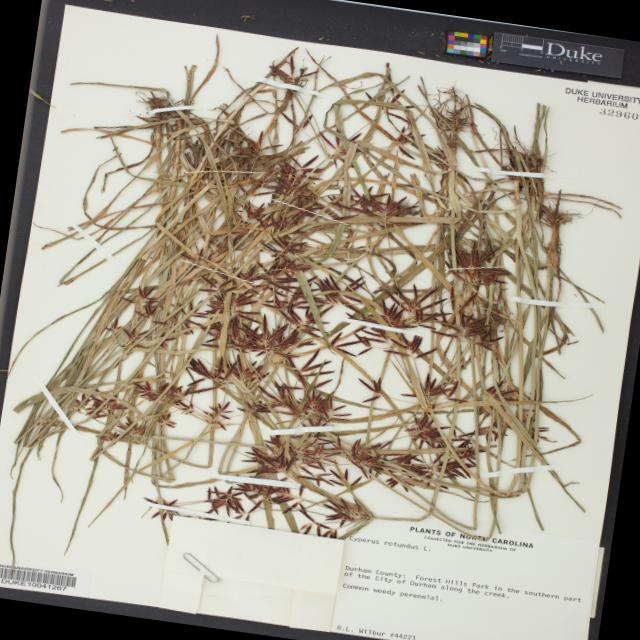cyperus: (69, 306, 434, 540), (128, 80, 433, 350), (383, 101, 598, 408)
